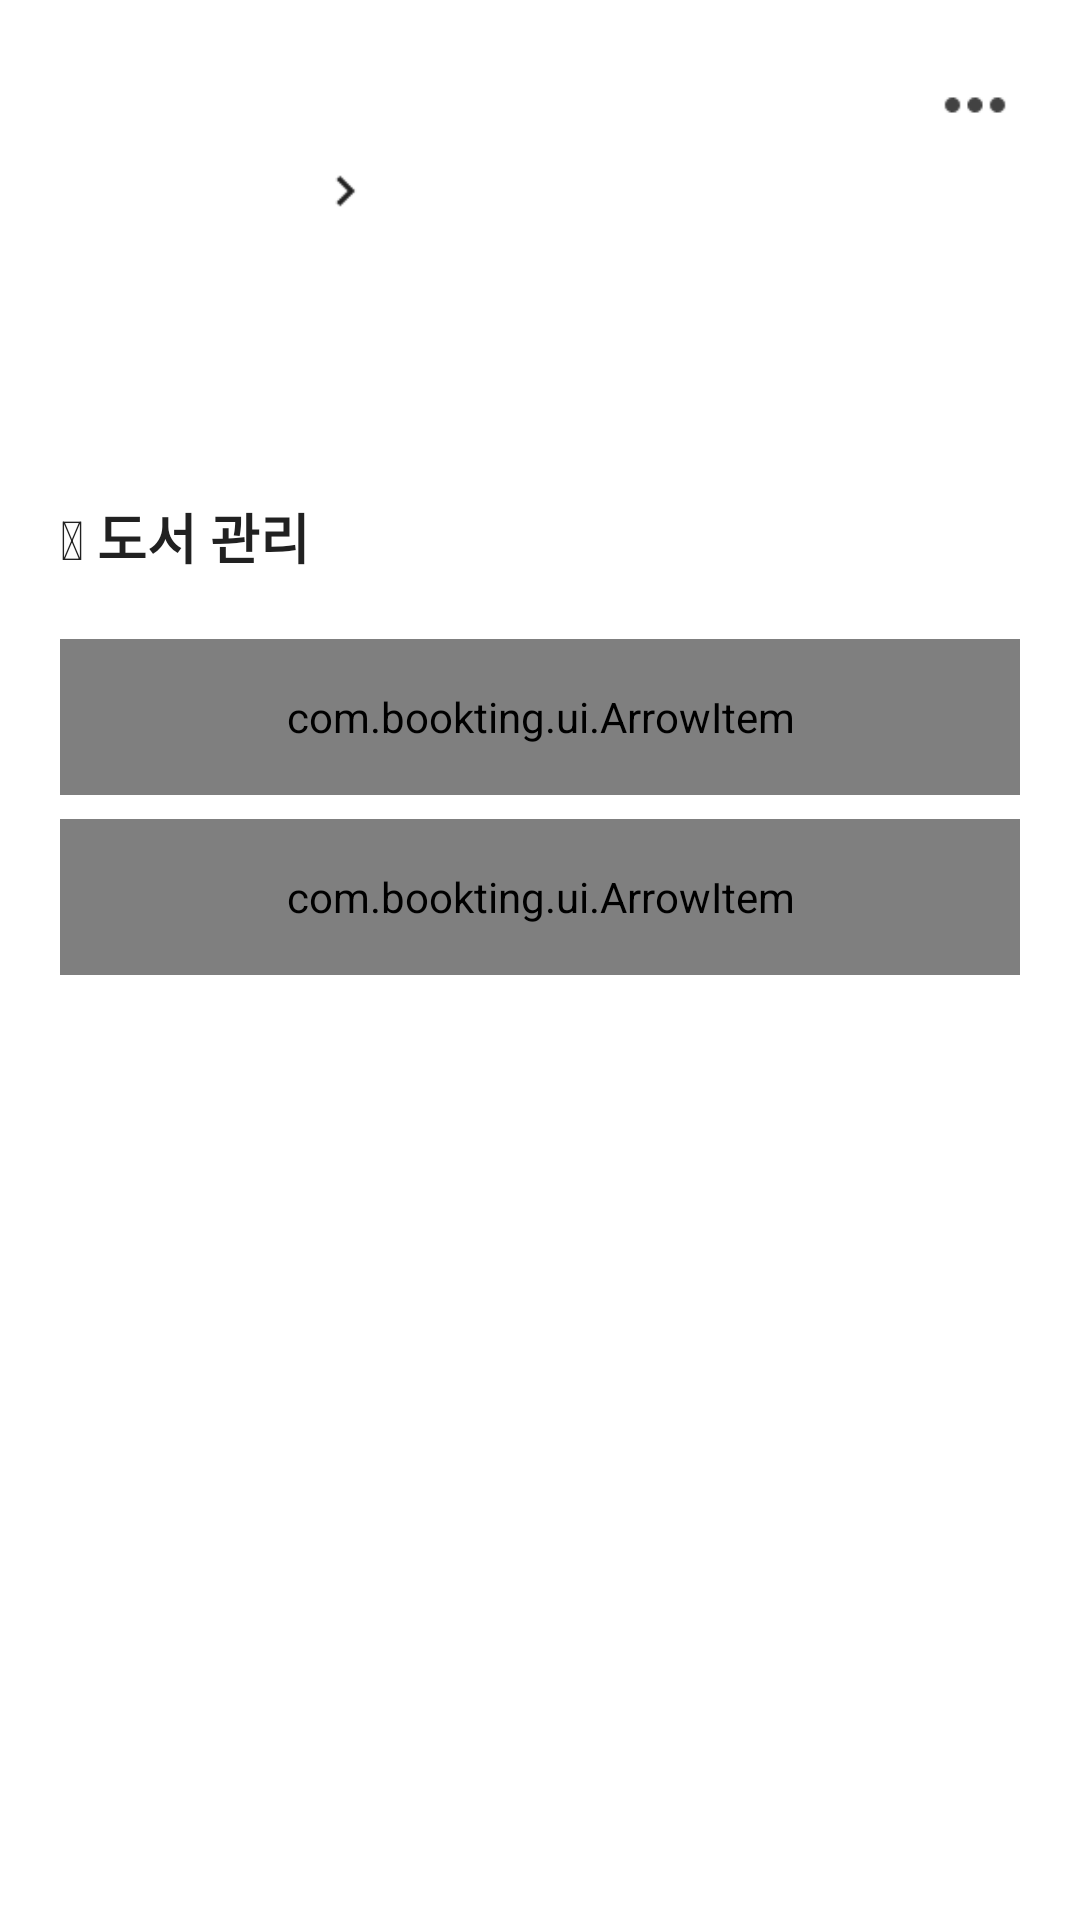

Point at icon controls on the screen. Image size 1080px×1920px, points as [x,y].
arrow next: [345,191]
three dot: [975,105]
